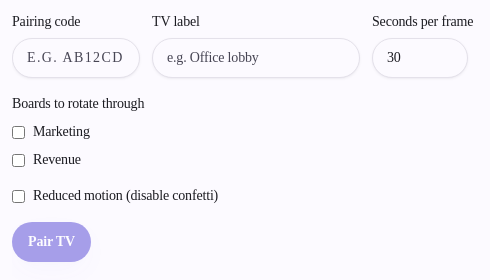
Test case: ClaimTvPairingForm › disables submit until a code, label, and at least one board are set
Expected: the button "Pair TV" is disabled, [12,222,91,262]
Type "ab12cd" into the field labelled "Pairing code" at (76, 58), box [12,38,140,78]
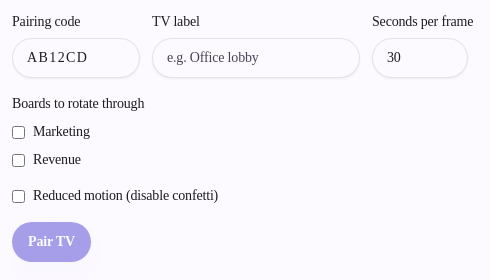
Type "Office lobby" into the field labelled "TV label" at (256, 58), box [152,38,360,78]
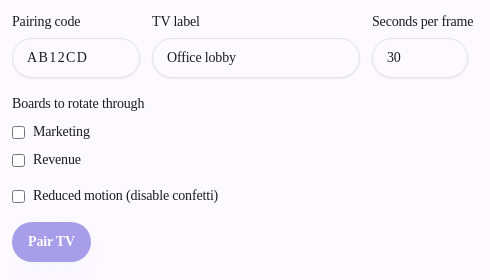
Expected: the button "Pair TV" is disabled, [12,222,91,262]
Click the checkbox labelled "Marketing" at (18, 132), box [12,126,25,138]
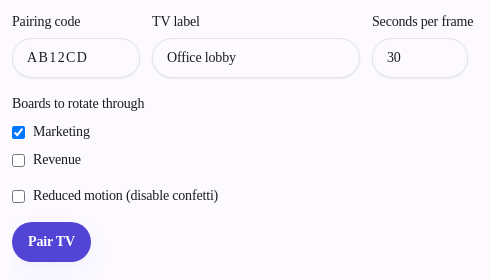
Result: the button "Pair TV" is enabled at [12,222,91,262]
